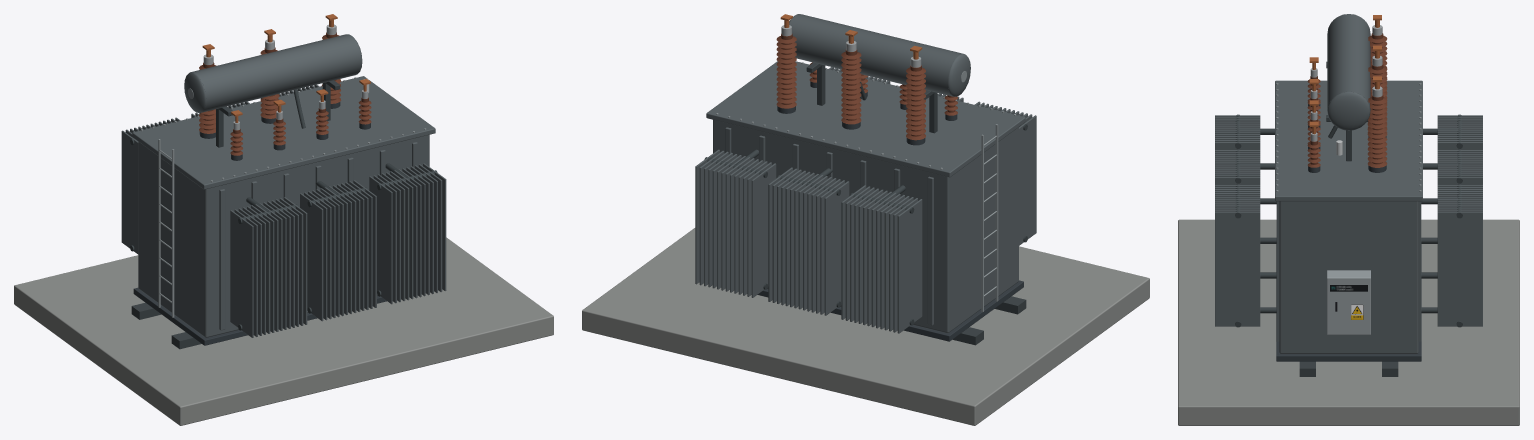
File: main-transformer.glb
3 views of the same model, side by side, from view 1: azimuth 30°, elevation 25°; view 2: azimuth 150°, elevation 25°; view 3: azimuth 270°, elevation 25° (orthographic). The views are drawn at different scales.
Visible parts, largest first — view 1: 主变本体; view 2: 主变本体; view 3: 主变本体.
Boxes of the visible parts, x1,y1,x2,y2 form: 主变本体: (14,14,553,425); 主变本体: (582,14,1149,425); 主变本体: (1178,14,1519,425).
Size of the model in its own units: 7 by 4.97 by 5.4.
5 materials, 1 textured.
